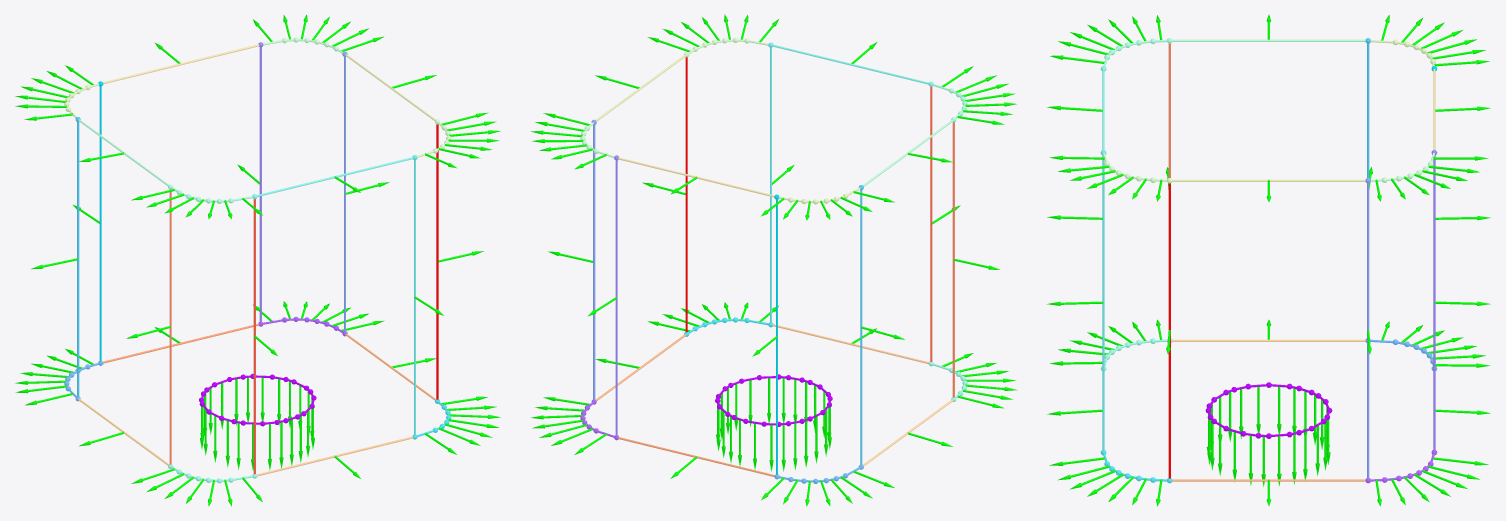
Rendered from onshape_simple_shape.gltf.
The picture shows the model from 3 angles, left to right: view 1: azimuth 30°, elevation 25°; view 2: azimuth 150°, elevation 25°; view 3: azimuth 270°, elevation 25°; orthographic projection. The views are drawn at different scales.
Size of the model in its own units: 0.7772 by 0.6878 by 0.7771.
